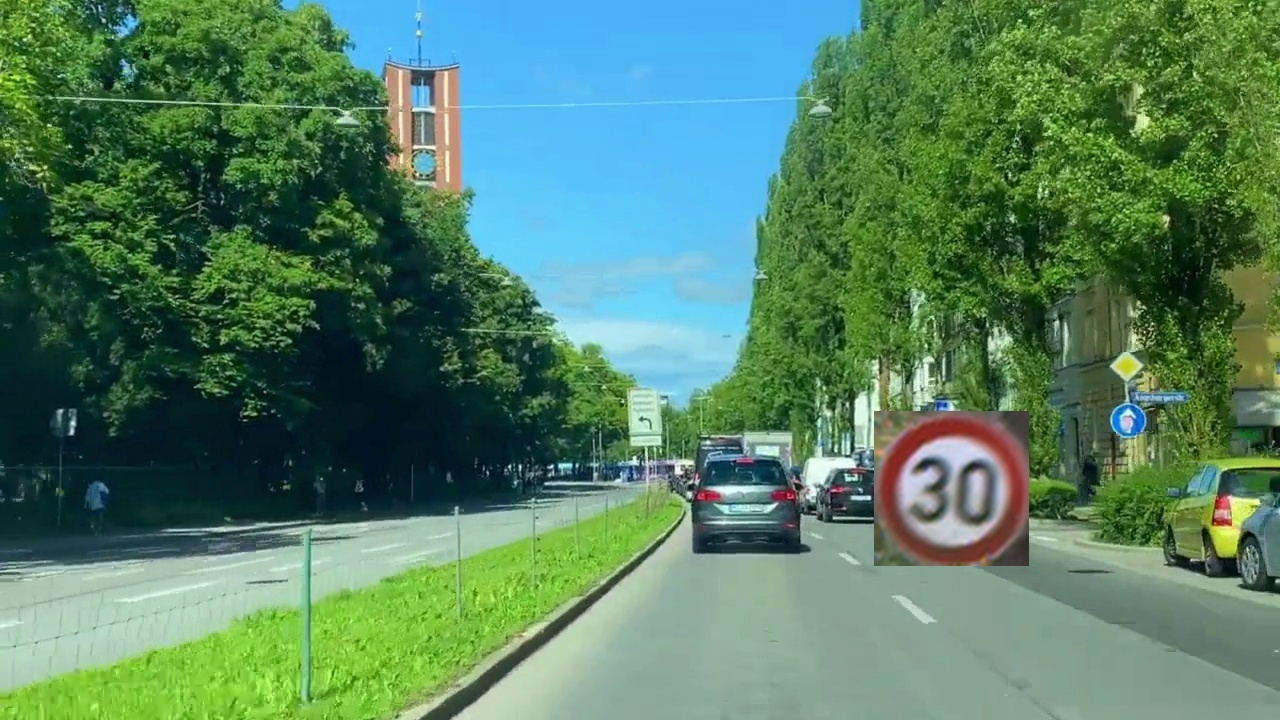Speed 30: (874, 411, 1029, 566)
